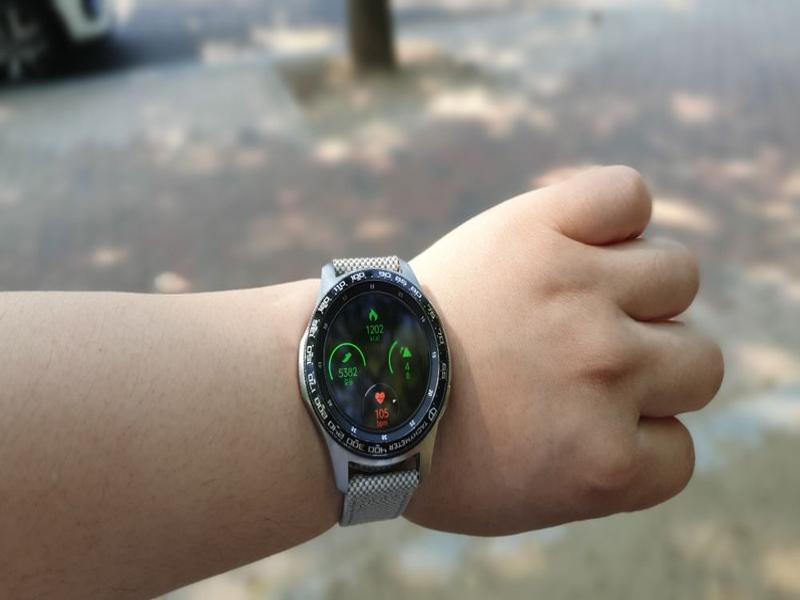watch: (294, 256, 453, 528)
